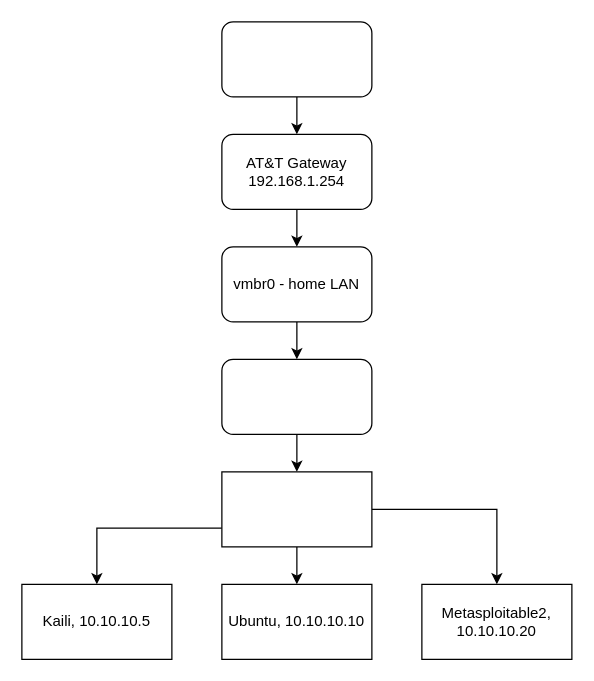
The diagram is 594 pixels wide and 681 high, and some of its shapes have lost their labels. Here are the shapes that lost their labels. From the top down, the centre of each, then its label:
the point at 296,59: Internet
the point at 296,396: Proxmox host pve01 192.168.1.50
the point at 296,509: vmbr1 - isolated network, bridge-ports none
